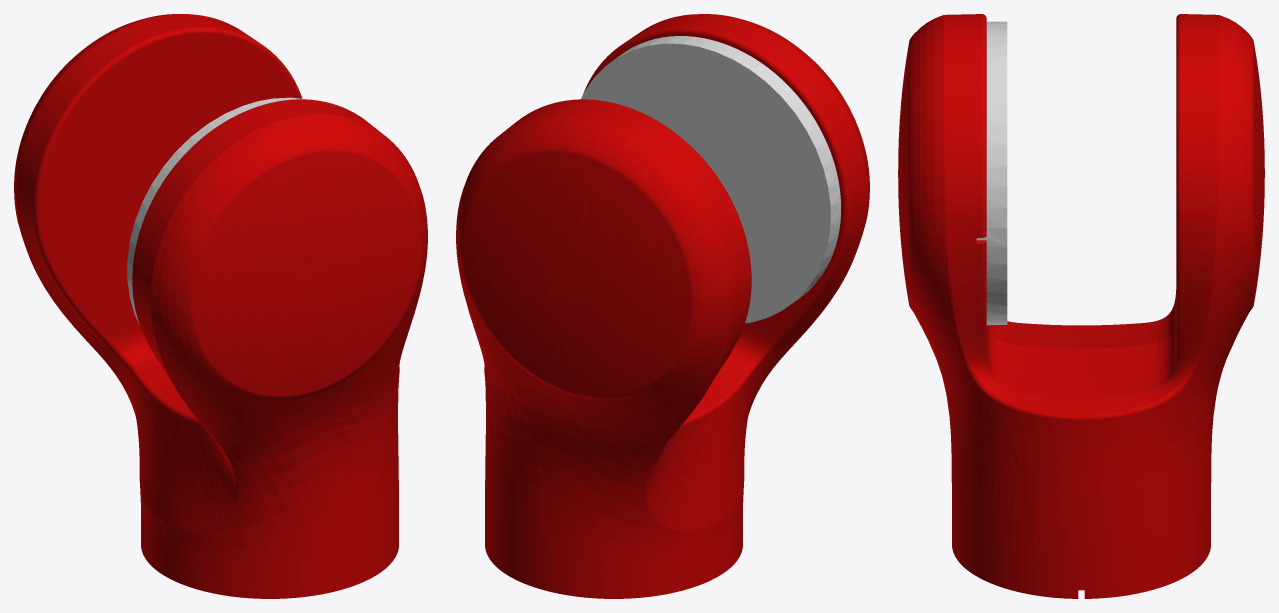
The picture shows the model from 3 angles, left to right: view 1: azimuth 30°, elevation 25°; view 2: azimuth 150°, elevation 25°; view 3: azimuth 270°, elevation 25°; orthographic projection.
Visible parts, largest first — view 1: Link4; view 2: Link4; view 3: Link4.
Boxes of the visible parts, x1,y1,x2,y2 form: Link4: [14, 14, 427, 598]; Link4: [456, 14, 869, 598]; Link4: [898, 14, 1264, 598].
Size of the model in its own units: 0.1095 by 0.1714 by 0.116.
